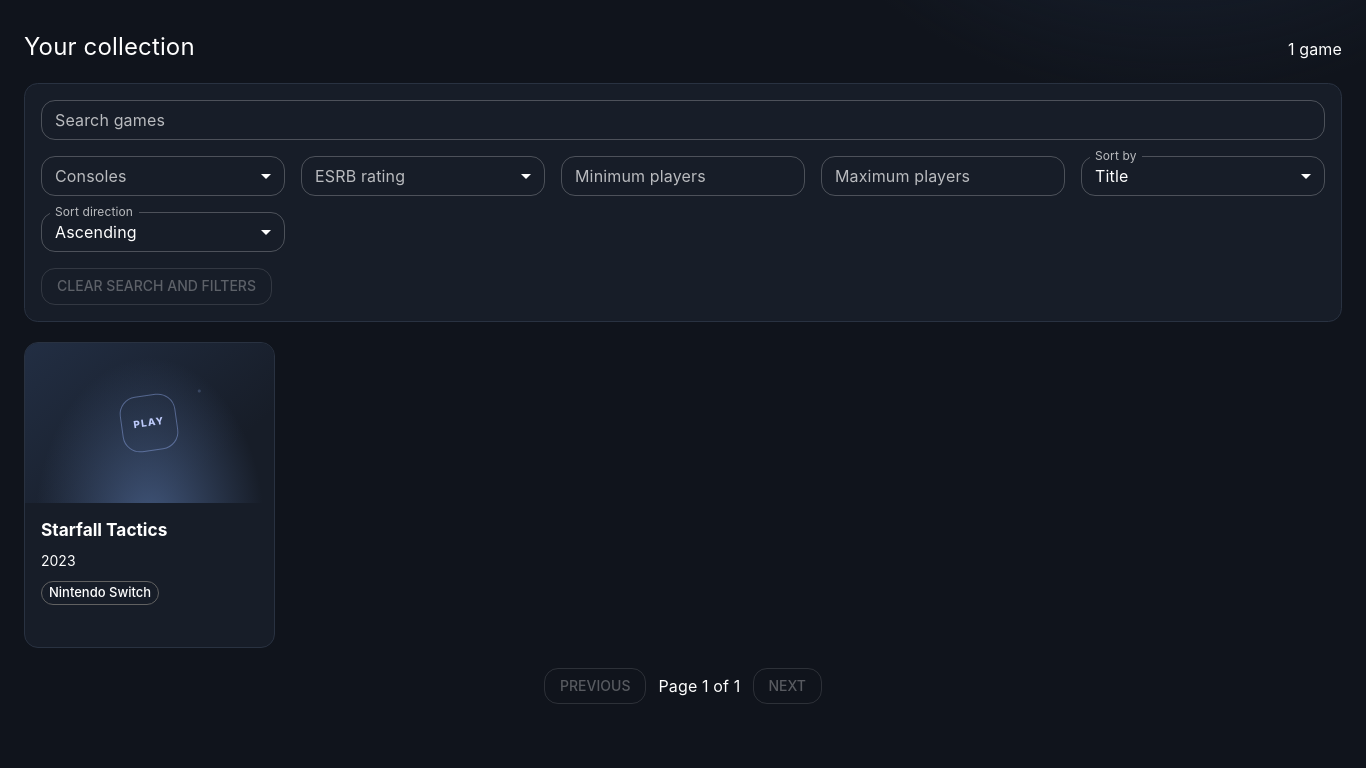
Test: game details › shows optional fields as unspecified when a game has no optional metadata
(page scrolled)
Click the button with aria-label "View details for Starfall Tactics". click: (149, 495)
box: [25,343,274,647]
(page scrolled)
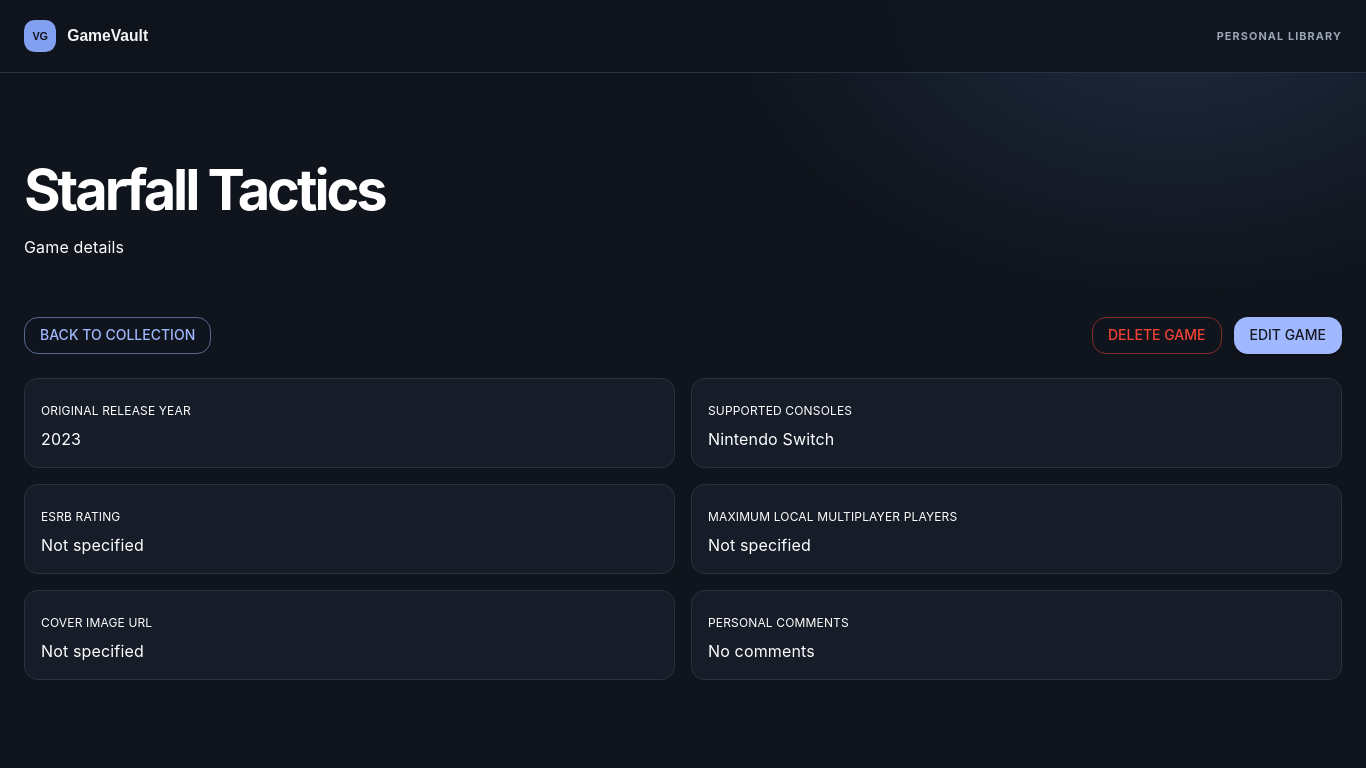
Result: the text "Not specified" is shown 3 times at [41,535,144,555]; [708,535,811,555]; [41,641,144,661]
Result: the text "No comments" is shown at [708,641,815,661]
